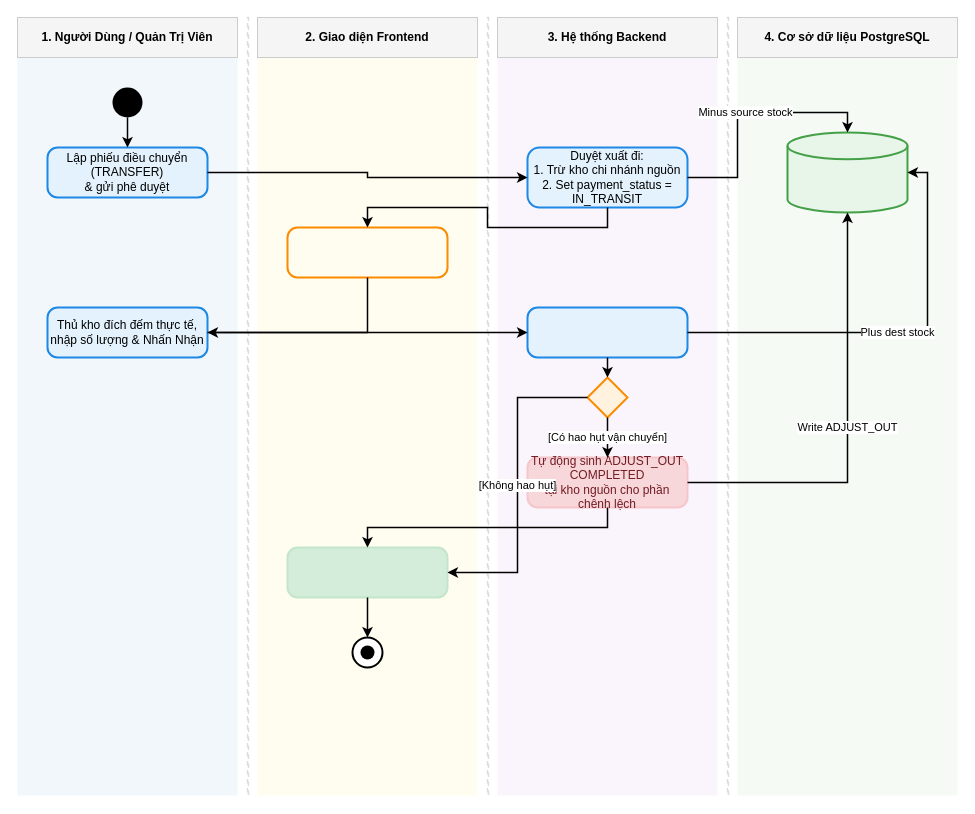
This 975x814 diagram has some shape labels left out. Each missing label, with the centre of its shape:
"1. Cộng kho chi nhánh đích 2. Đổi status -> RECEIVED" goes at point 607,332.
"Bảng Receipts & ReceiptDetails & Inventories" goes at point 847,172.
"Thông báo hoàn tất điều chuyển" goes at point 367,572.
"Trạng thái hàng đi đường (Chờ chi nhánh nhận xác nhận)" goes at point 367,252.
